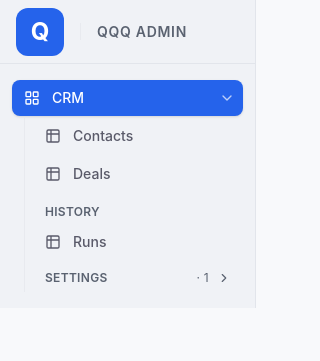
Test case: Sidebar sections › shows Primary without a heading, History under a group heading, and Settings collapsed with a count
Expected: the link "Contacts" is shown, [45,127,133,144]
Expected: the link "Currencies" is not shown
Step 1. Click the button "Settings · 1" → (138, 278), box [33,264,243,292]
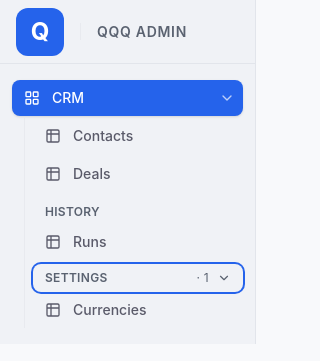
Now the button "Settings · 1" is expanded, box [33,264,243,292]
Now the link "Currencies" is shown, box [45,301,146,318]
